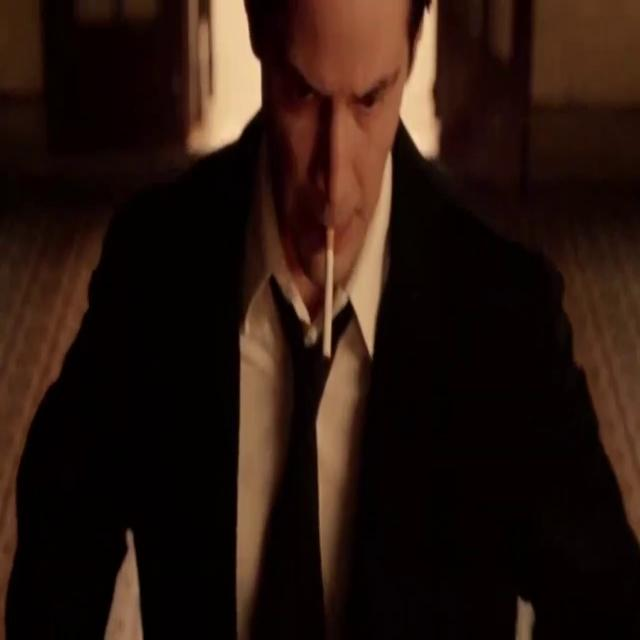Smooking: (315, 228, 340, 370)
